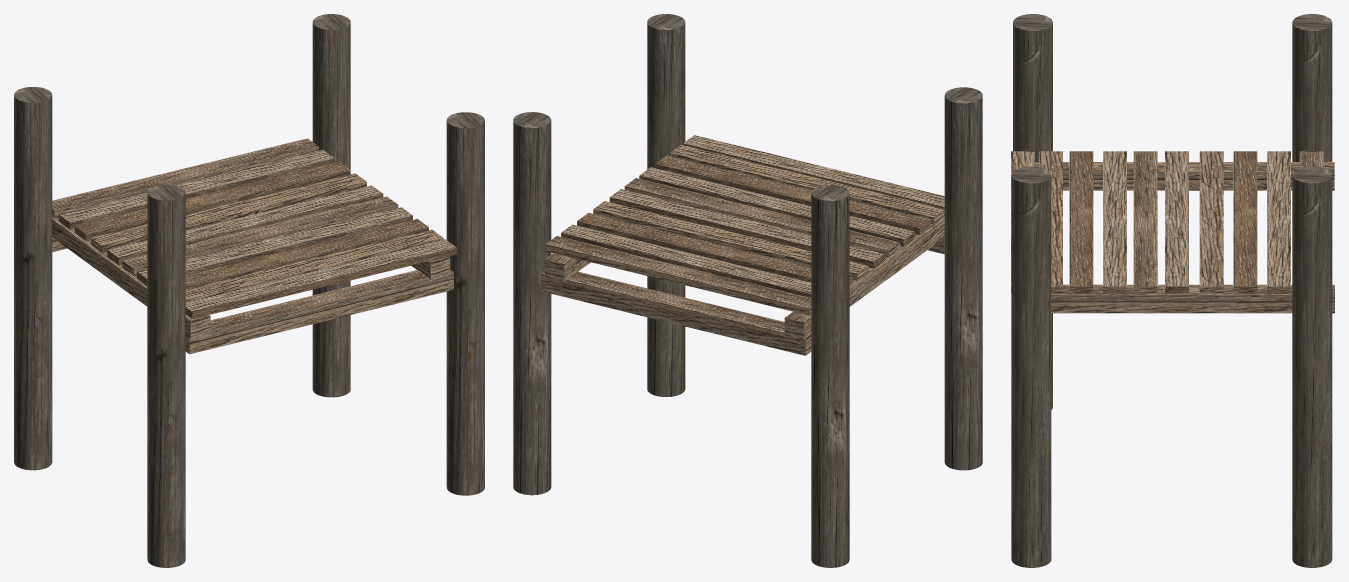
File: plataformadera 1.fbx
The picture shows the model from 3 angles, left to right: view 1: azimuth 30°, elevation 25°; view 2: azimuth 150°, elevation 25°; view 3: azimuth 270°, elevation 25°; orthographic projection. The views are drawn at different scales.
Parts seen in each view (by area): view 1: PlataformaTablas, Columna1, Columna4, Cube.014; view 2: PlataformaTablas, Columna4, Columna1, Cube.014; view 3: PlataformaTablas, Columna4, Columna1, Cube.014.
Boxes of the visible parts, x1,y1,x2,y2 form: PlataformaTablas: (52, 138, 456, 338); Columna1: (147, 112, 484, 567); Columna4: (14, 14, 350, 470); Cube.014: (91, 173, 366, 252); PlataformaTablas: (544, 135, 944, 340); Columna4: (513, 112, 849, 567); Columna1: (647, 14, 982, 470); Cube.014: (593, 201, 868, 280); PlataformaTablas: (1011, 151, 1334, 313); Columna4: (1292, 14, 1332, 567); Columna1: (1011, 14, 1052, 567); Cube.014: (1199, 151, 1223, 293).
Bounding box in the file's own units: 502 × 531 × 405.
Materials: 18 (18 with a texture image).
